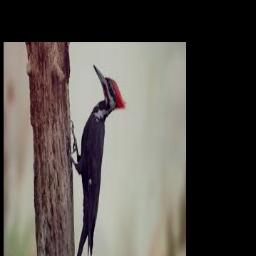Woodpecker: (70, 64, 126, 256)
